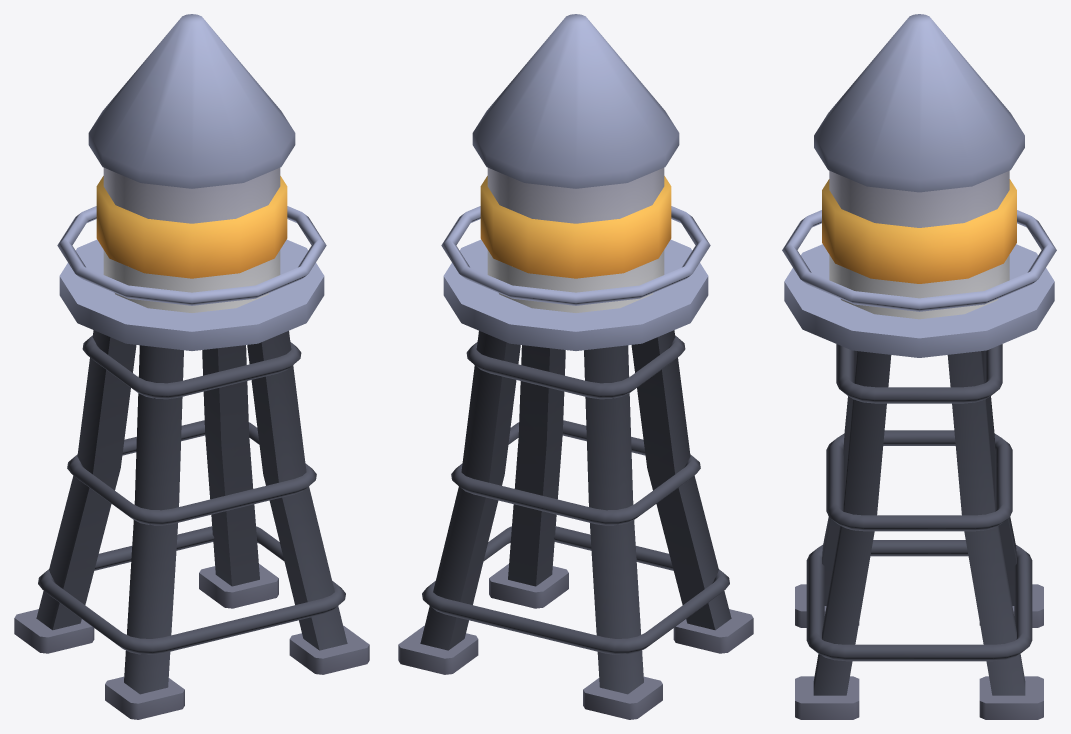
File: water_tower.glb
3 renders of one model, left to right at view 1: azimuth 30°, elevation 25°; view 2: azimuth 150°, elevation 25°; view 3: azimuth 270°, elevation 25°, orthographic. The views are drawn at different scales.
Visible parts, largest first — view 1: water-tower; view 2: water-tower; view 3: water-tower.
Boxes of the visible parts, bbox=[...] form: water-tower: bbox=[14, 14, 369, 719]; water-tower: bbox=[398, 14, 753, 719]; water-tower: bbox=[782, 14, 1056, 719].
Bounding box in the file's own units: 0.8522 × 2.14 × 0.8318.
Materials: 1 (1 with a texture image).
